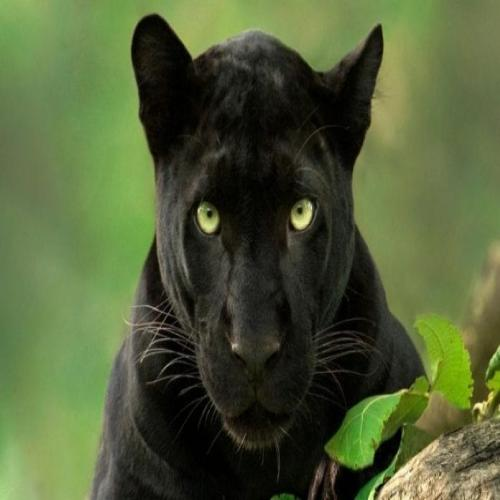panther-endangered: (97, 12, 433, 500)
